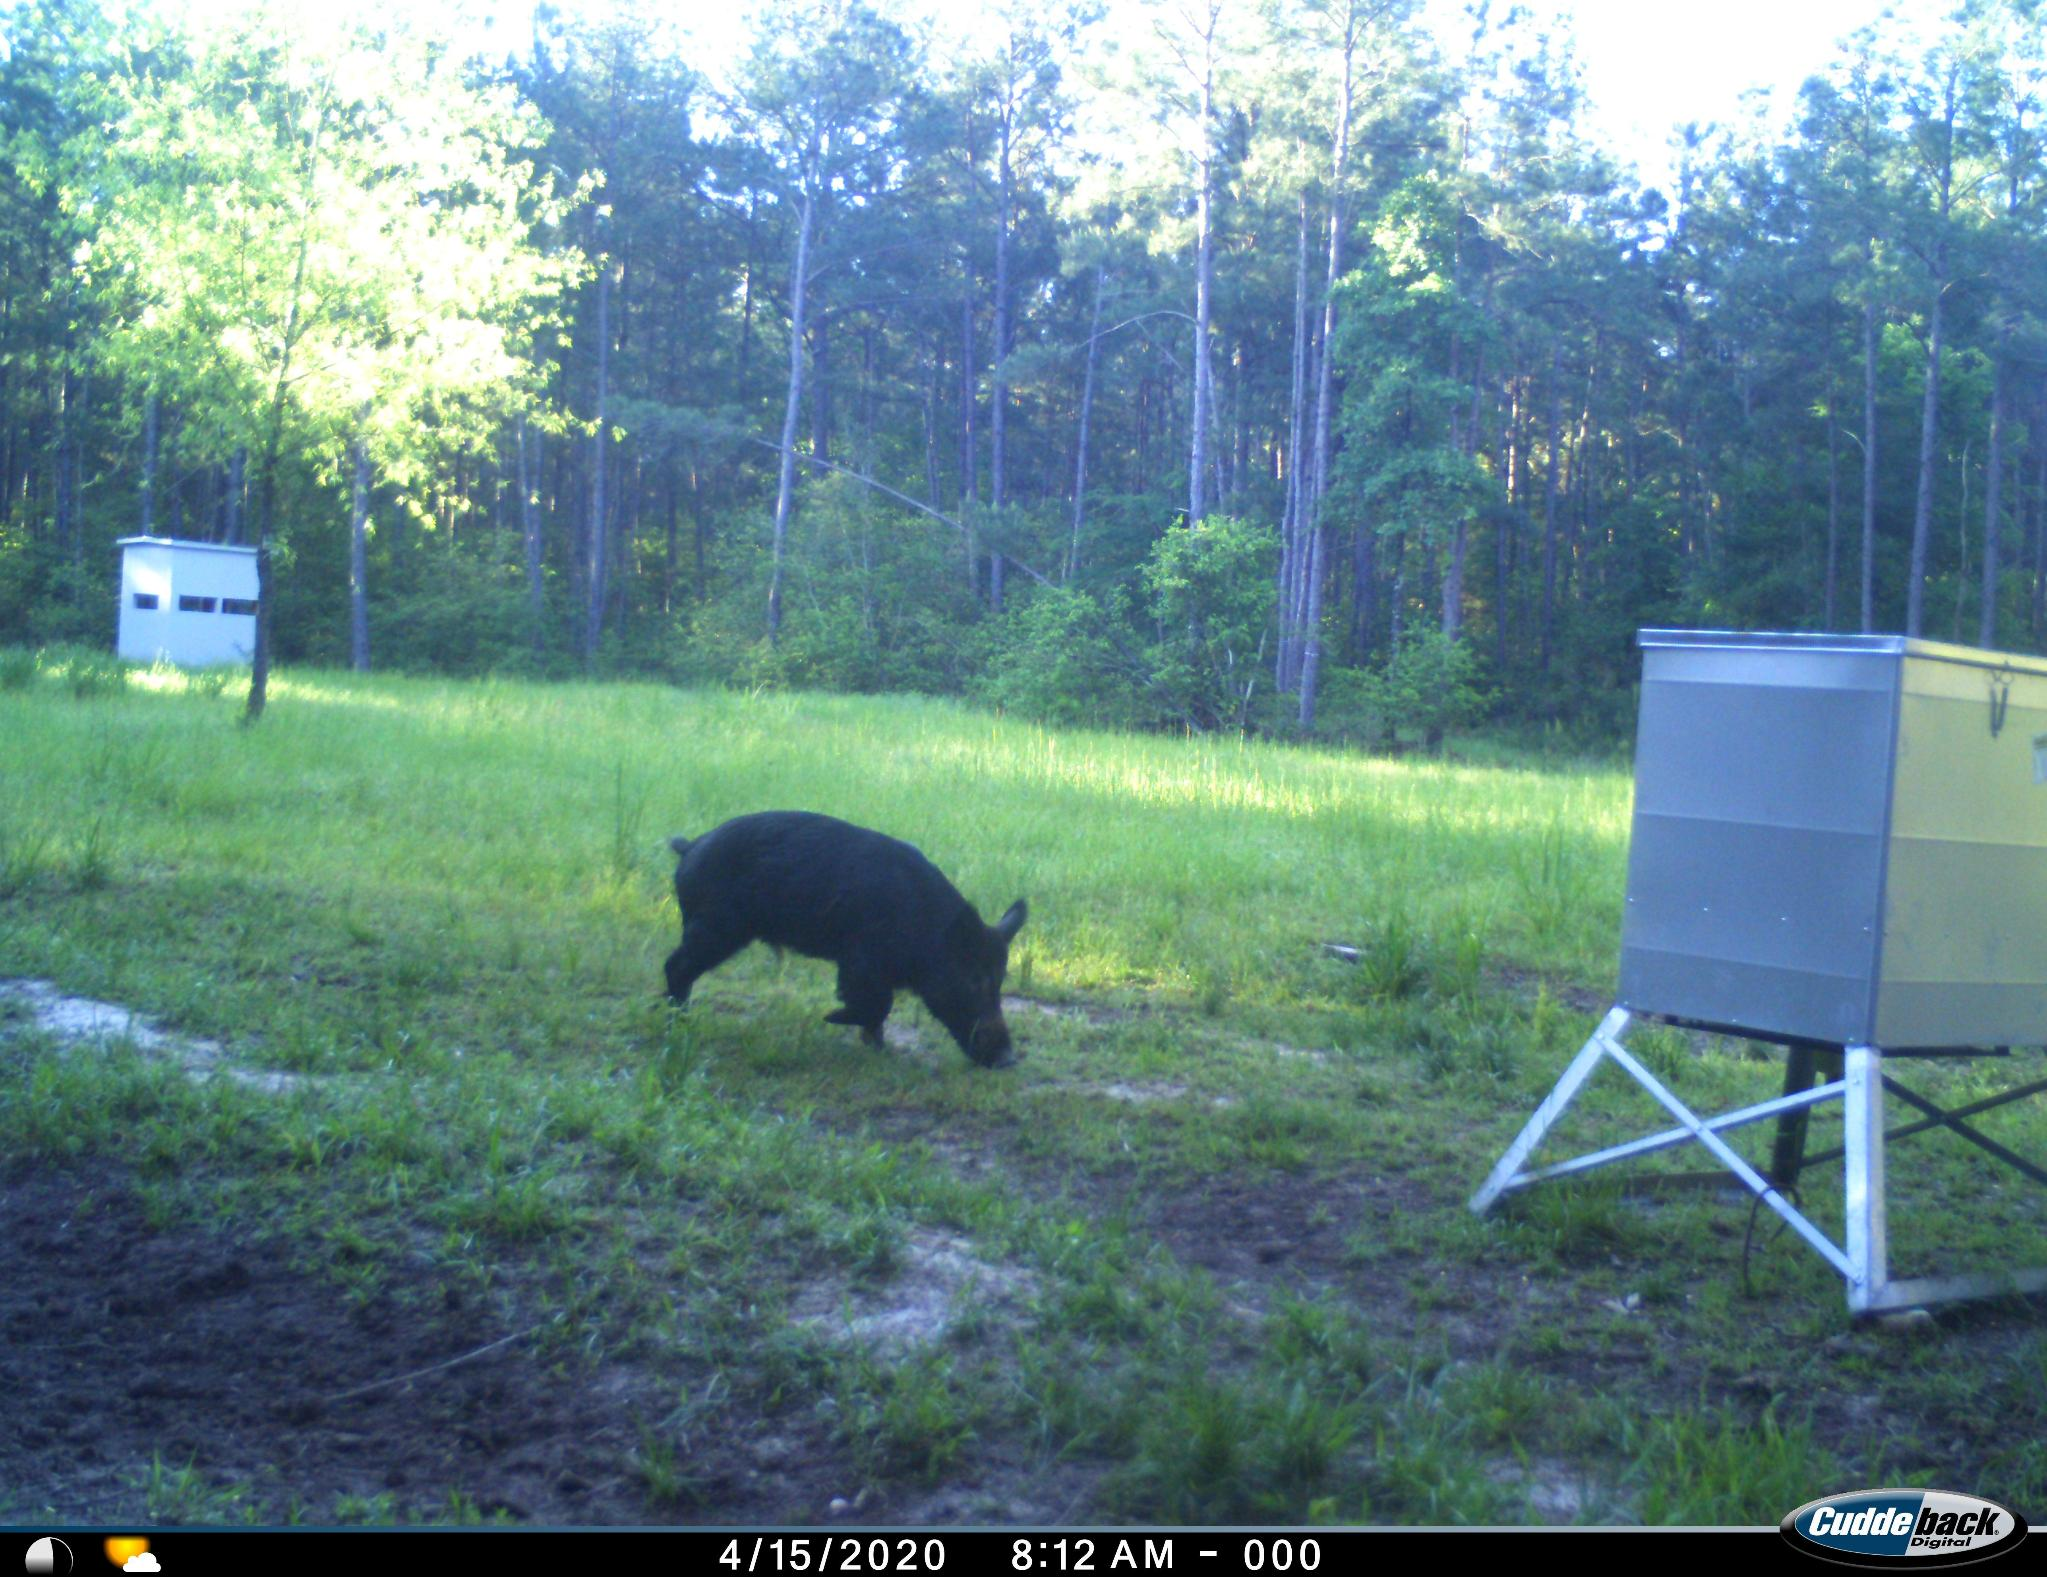Hog: (646, 802, 1047, 1107)
